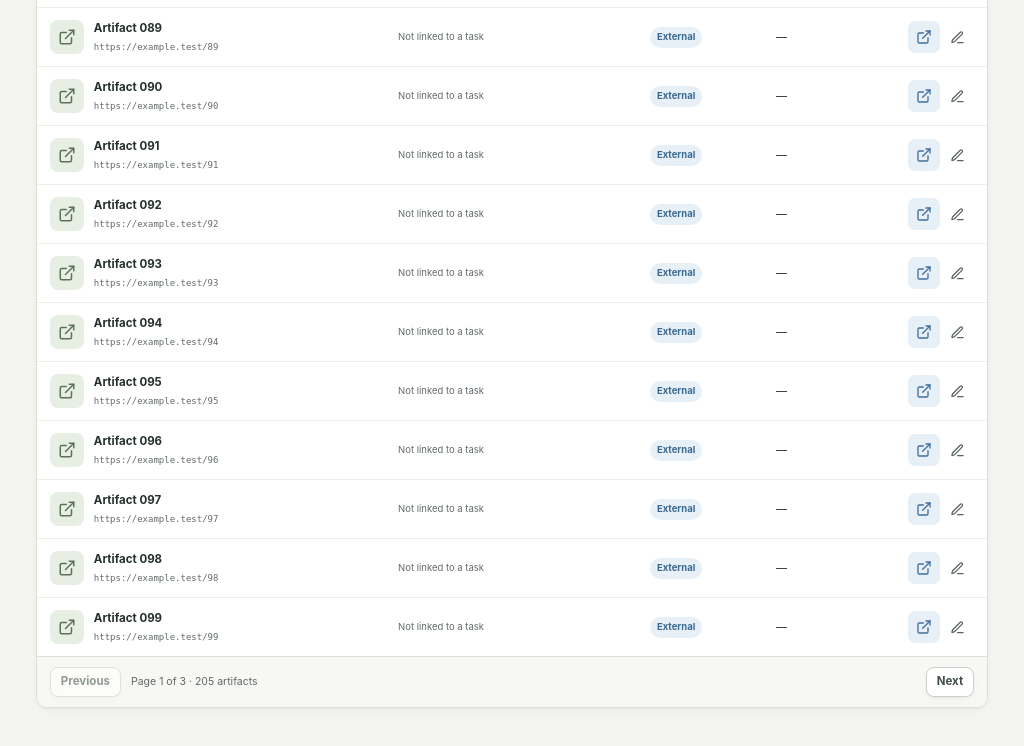
ArtifactsView scale bounds › renders at most 100 artifact rows and exposes accessible paging controls
(page scrolled)
Expected: the navigation bar named "Artifact pages" shows "Page 1 of 3", [37,656,987,707]
Expected: the text "Artifact 100" is not shown
Click the button "Next" at (950, 682), box [926,667,974,697]
(page scrolled)
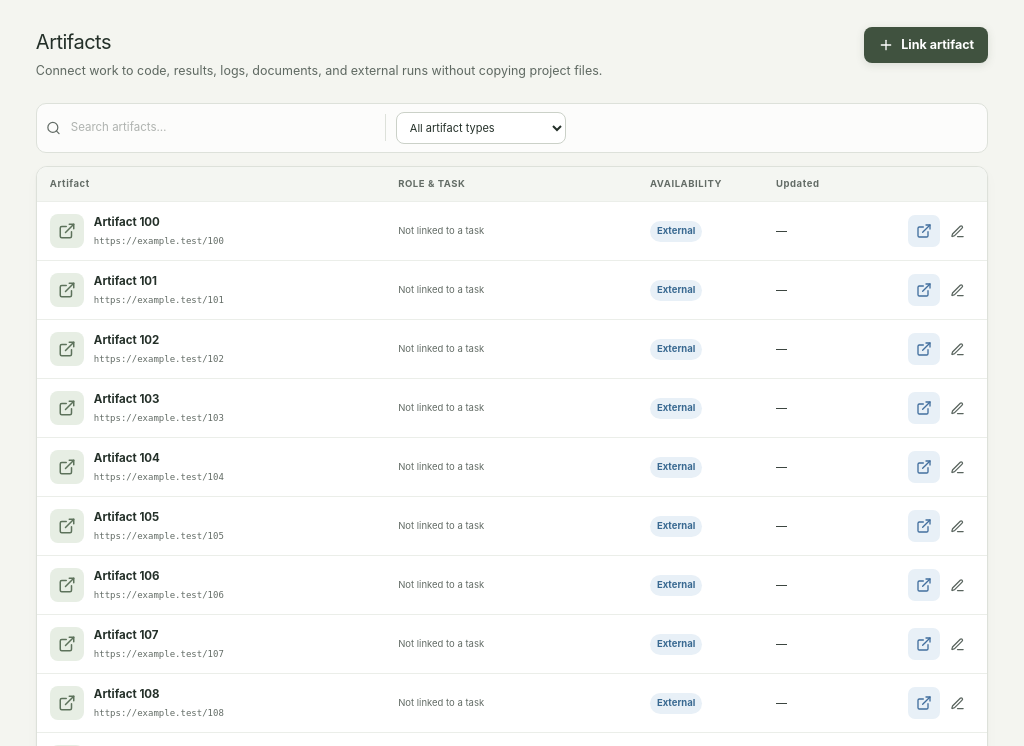
Now the text "Artifact 100" is shown, box [94,215,160,229]
